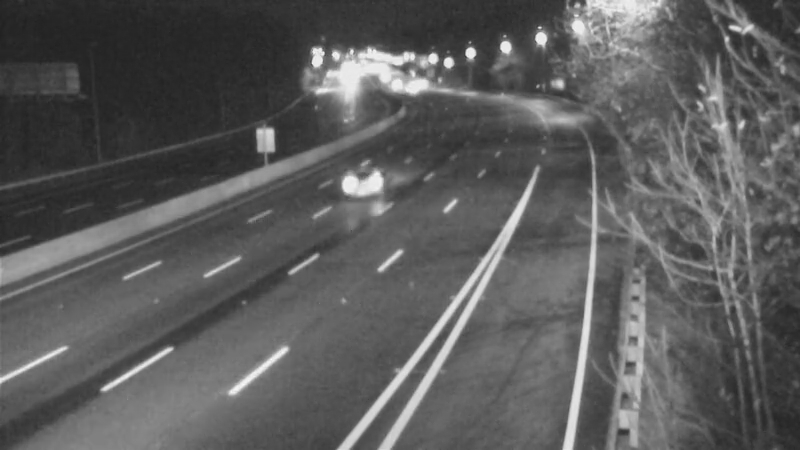vehicle: (317, 145, 397, 225)
